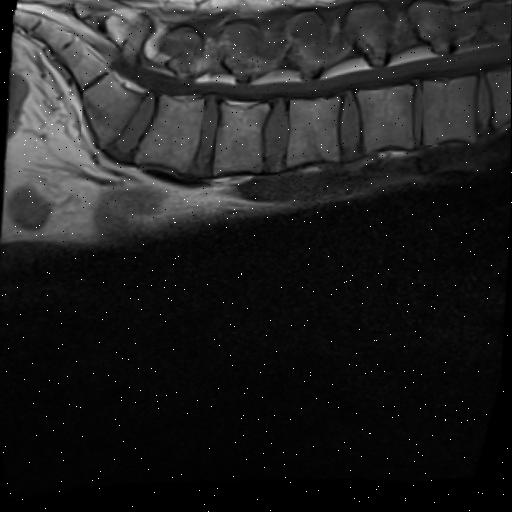L1: (421, 84, 476, 152)
L2: (358, 93, 413, 159)
L3: (286, 104, 339, 171)
L4: (213, 108, 266, 177)
L5: (136, 99, 204, 176)
S1: (82, 77, 148, 150)
